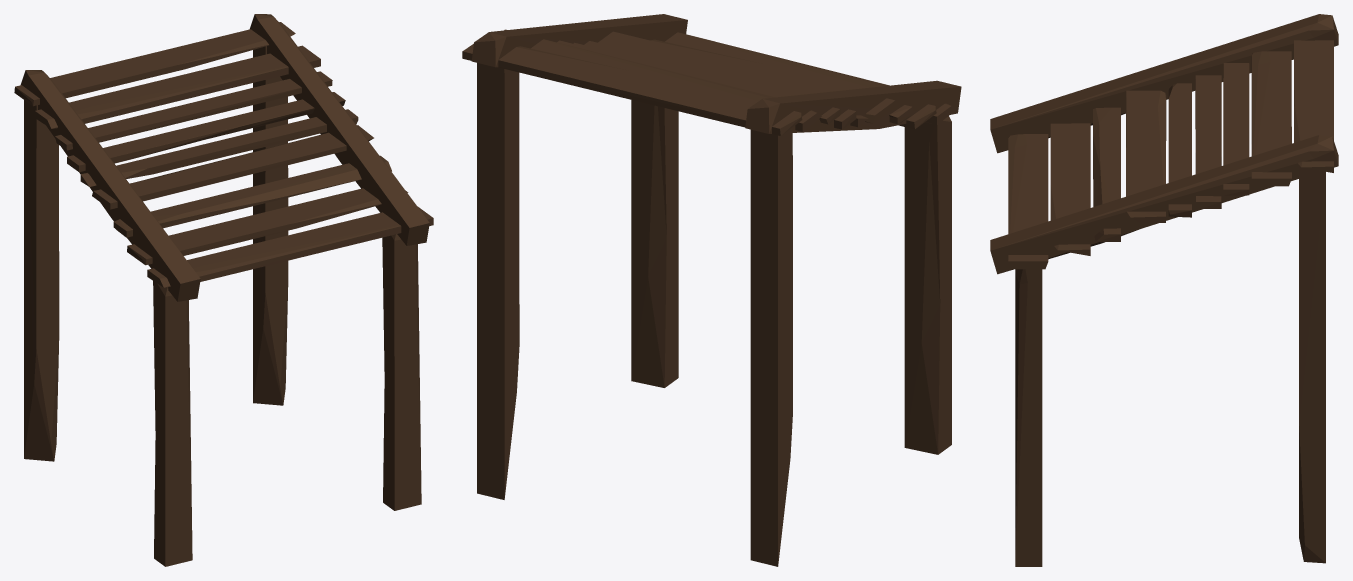
Rendered from SM_stairs_platform_wooden.fbx.
The picture shows the model from 3 angles, left to right: view 1: azimuth 30°, elevation 25°; view 2: azimuth 150°, elevation 25°; view 3: azimuth 270°, elevation 25°; orthographic projection. The views are drawn at different scales.
Parts seen in each view (by area): view 1: Object567; view 2: Object567; view 3: Object567.
Boxes of the visible parts, box(x1,y1,x2,y2) form: Object567: box(14, 14, 433, 566); Object567: box(462, 14, 961, 566); Object567: box(990, 14, 1338, 566).
Bounding box in the file's own units: 127 × 175 × 131.
